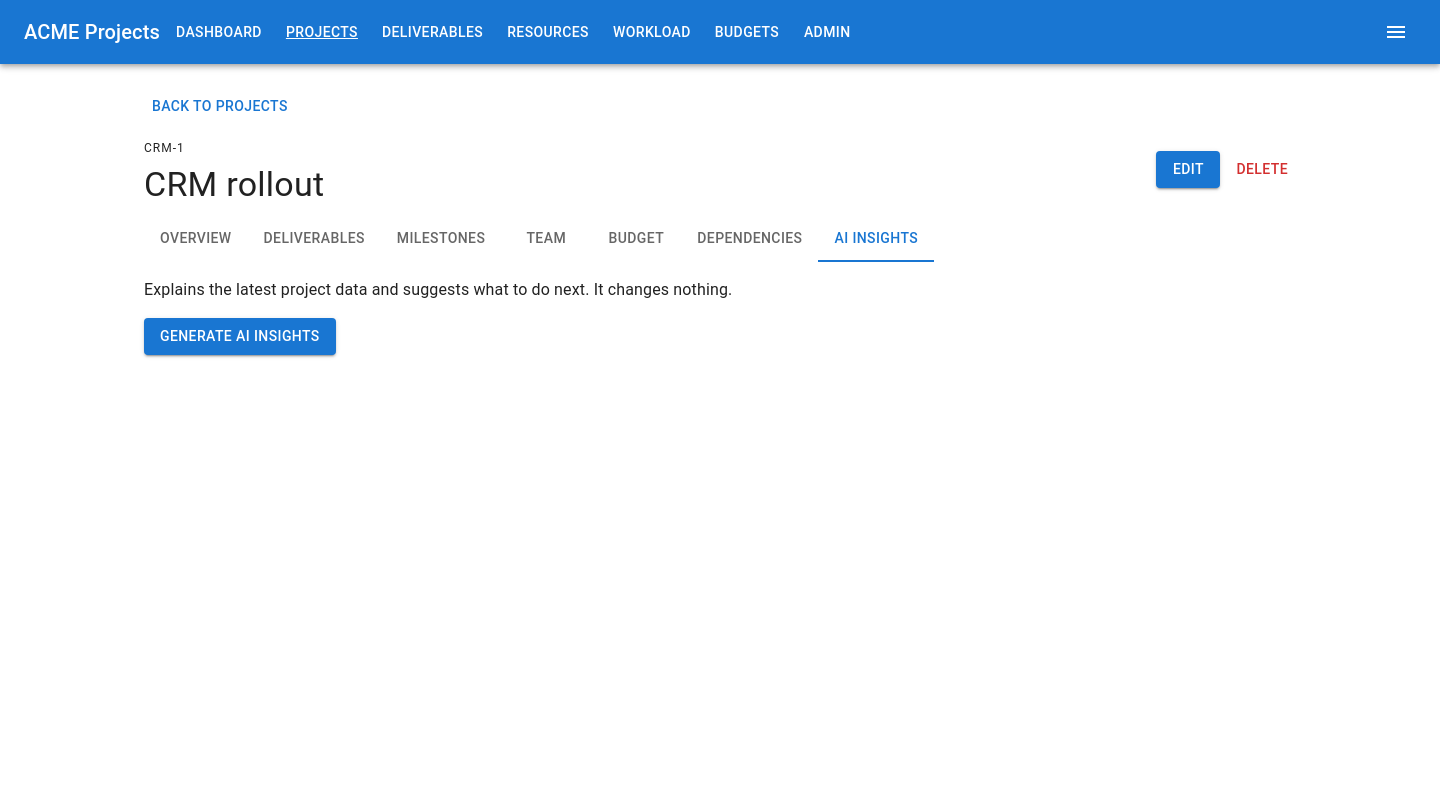
it: AI insights › shows loading, then regenerates with fresh data
The image size is (1440, 801).
Later steps or results of the test are not shown.
Click the button "Generate AI Insights". click: [240, 337]
box: top-left (144, 318), bottom-right (336, 355)
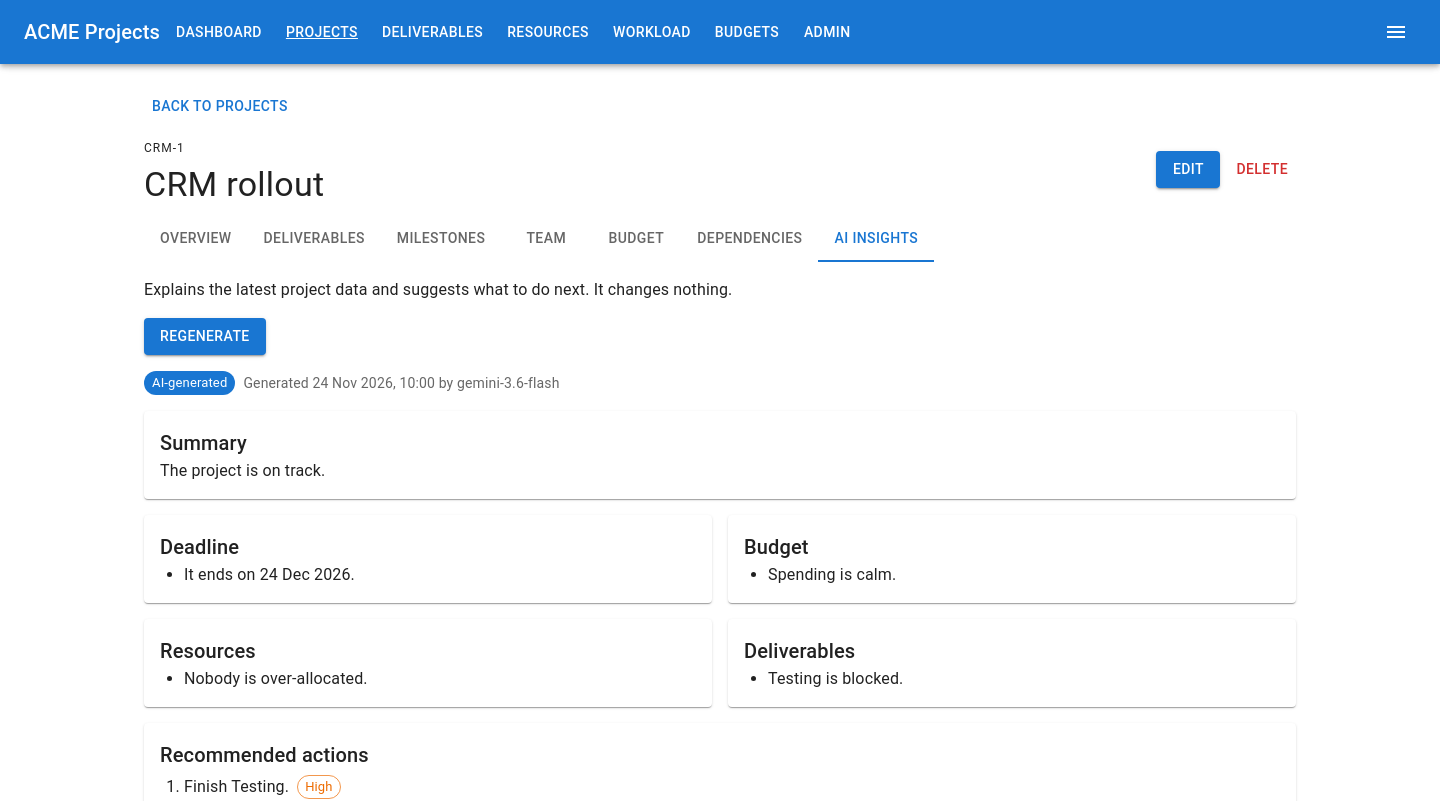
Now the text "The project is on track." is shown, box top-left (160, 461), bottom-right (326, 480)
Click the button "Regenerate". click: [205, 337]
box: top-left (144, 318), bottom-right (266, 355)
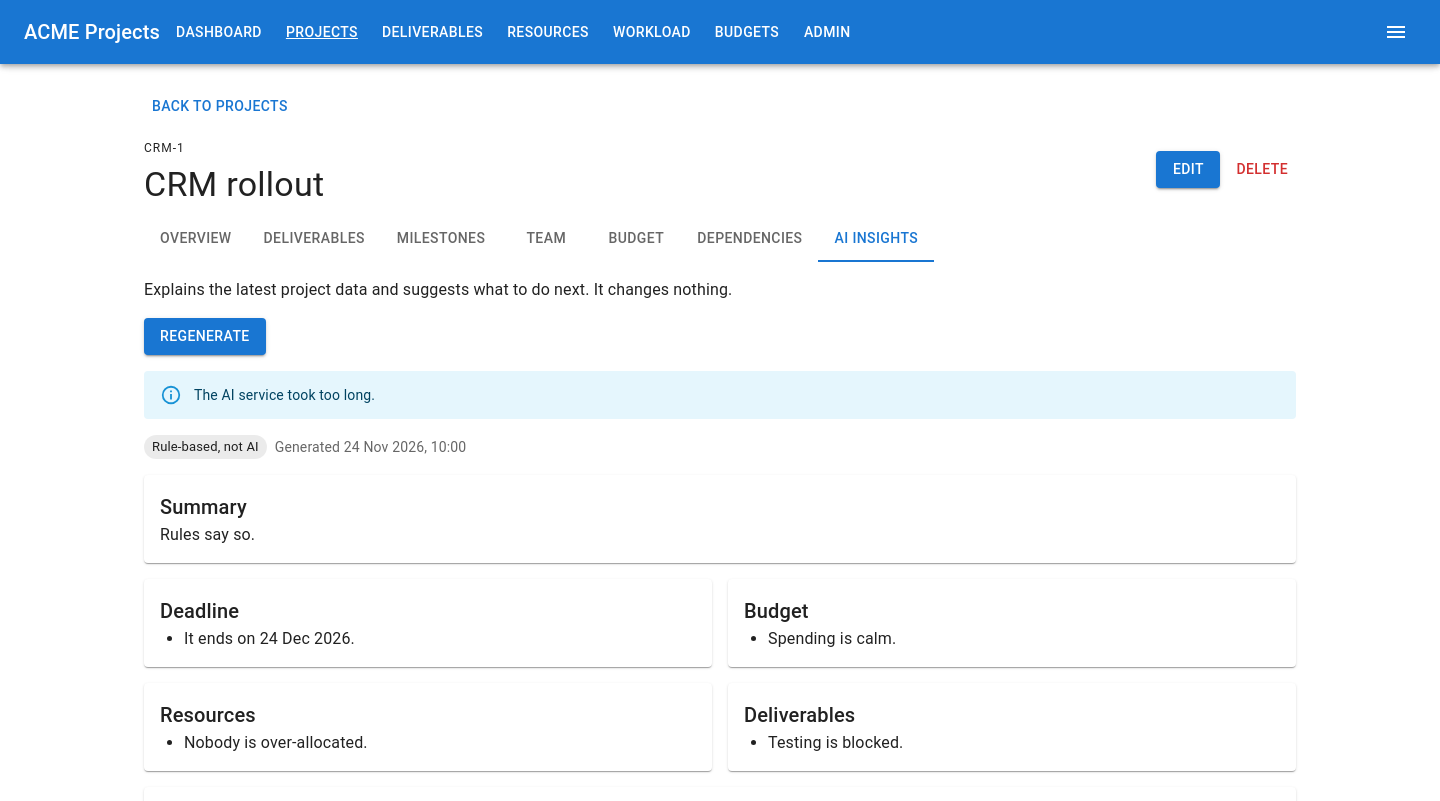
Now the text "Rules say so." is shown, box top-left (160, 525), bottom-right (255, 544)
Now the text "The project is on track." is gone
